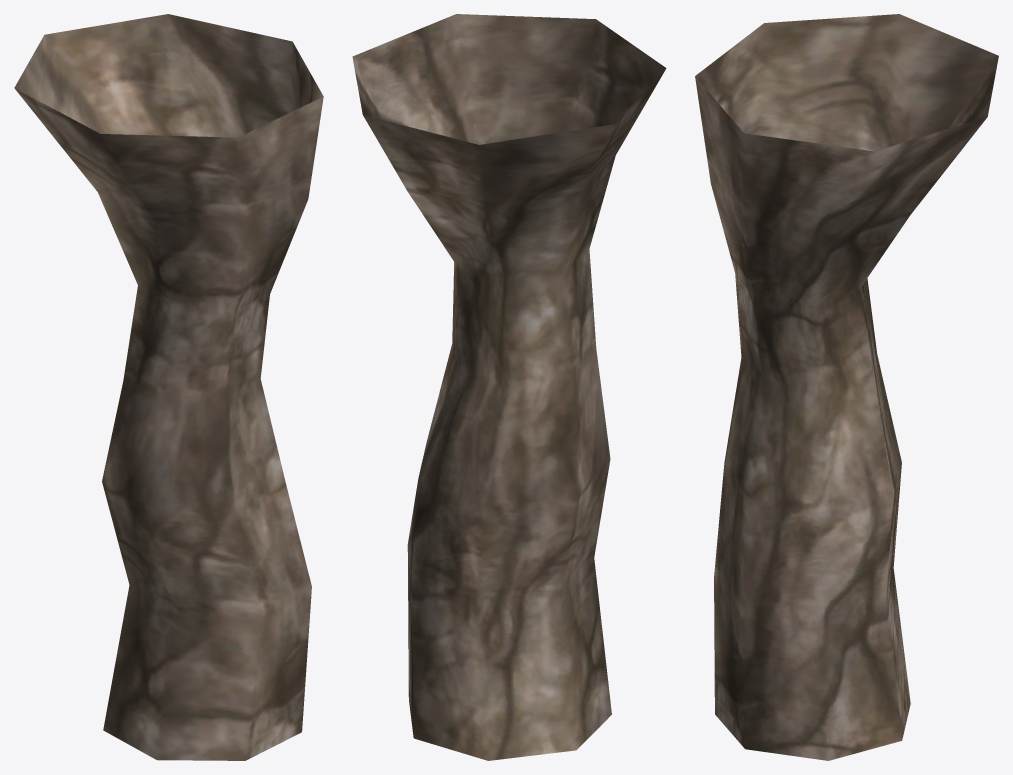
File: EKH_JAIL_PS_JA_CYLINDER08.fbx
3 renders of one model, left to right at view 1: azimuth 30°, elevation 25°; view 2: azimuth 150°, elevation 25°; view 3: azimuth 270°, elevation 25°, orthographic. The views are drawn at different scales.
Parts seen in each view (by area): view 1: EKH_JAIL_PS_JA_CYLINDER08; view 2: EKH_JAIL_PS_JA_CYLINDER08; view 3: EKH_JAIL_PS_JA_CYLINDER08.
Boxes of the visible parts, left/top/right/bottom form: EKH_JAIL_PS_JA_CYLINDER08: left=14, top=14, right=323, bottom=760; EKH_JAIL_PS_JA_CYLINDER08: left=352, top=14, right=666, bottom=760; EKH_JAIL_PS_JA_CYLINDER08: left=695, top=14, right=998, bottom=760.
Size of the model in its own units: 19243 by 44198 by 19219.
1 material, 1 textured.
